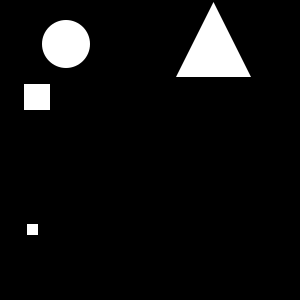circle: (24, 84, 50, 110), (27, 224, 38, 235)
rectangle: (42, 20, 90, 68)
triangle: (176, 2, 251, 77)
